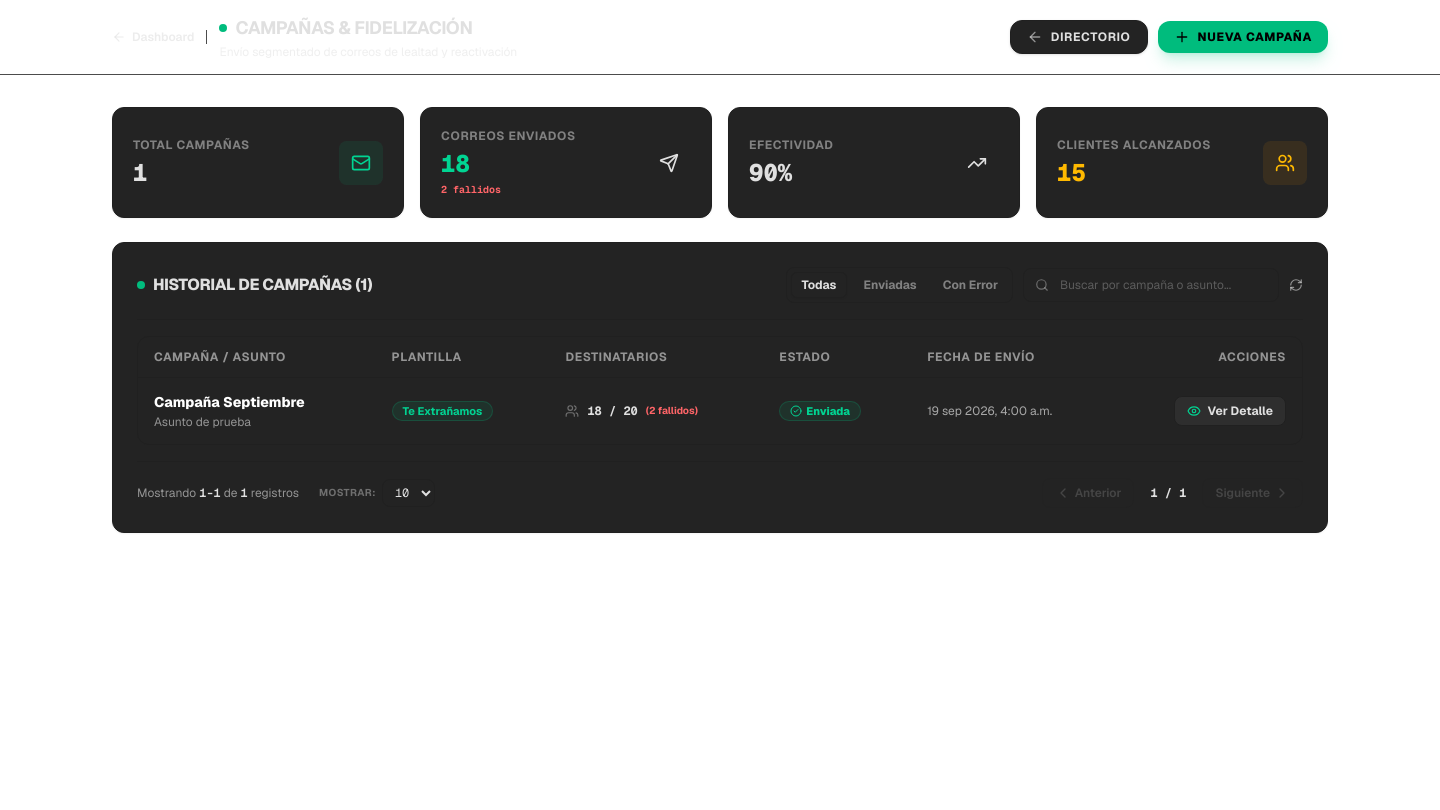
Scenario: CampaignsContent Component › should open NewCampaignModal when clicking 'Nueva Campaña' header button
What coordinates should you click on to do the following:
click the button with test id "new-campaign-header-btn"
I would click on:
 (1243, 37)
Its box is x1=1158 y1=21 x2=1328 y2=53.
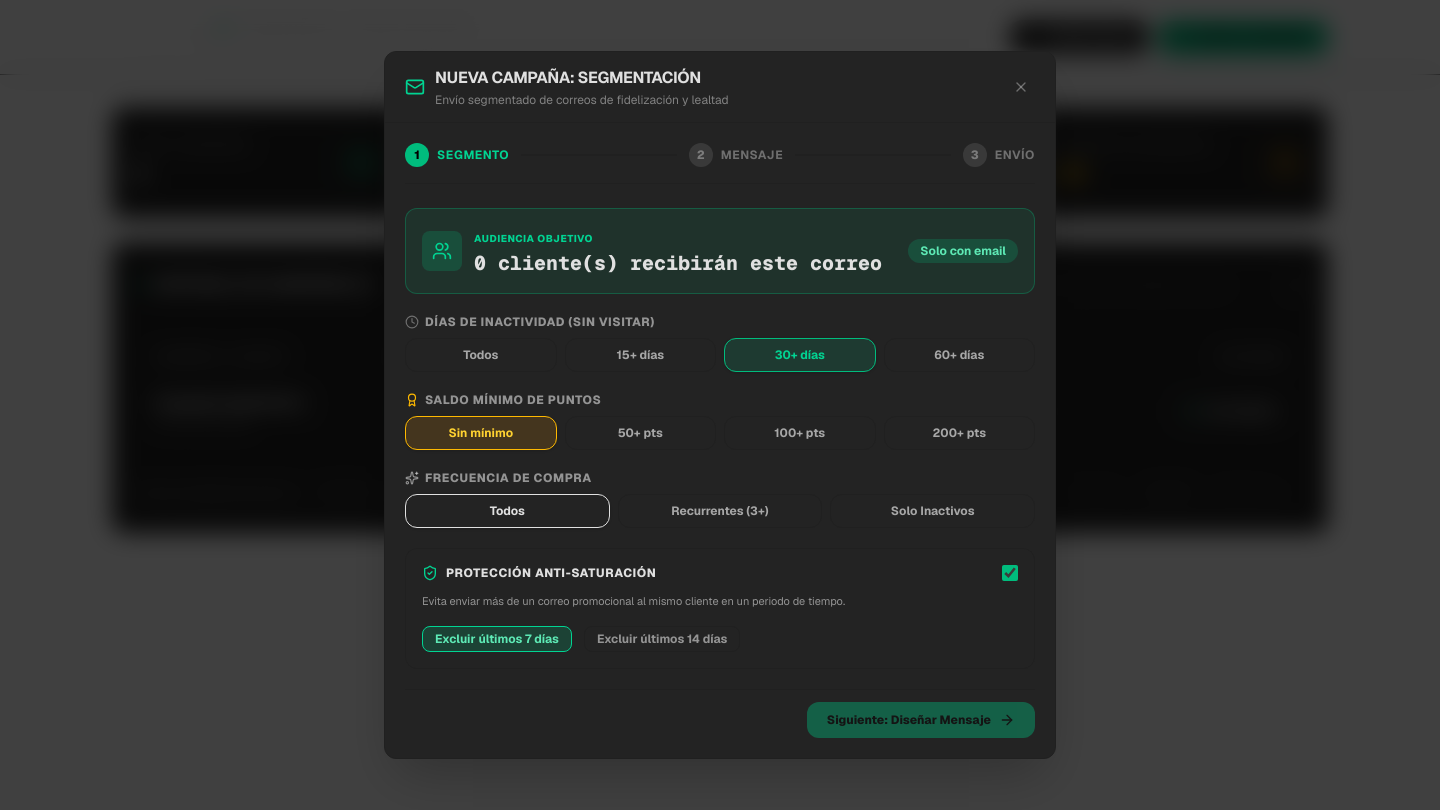
Check: the heading "Nueva Campaña: Segmentación" is shown, box x1=435 y1=66 x2=729 y2=90
